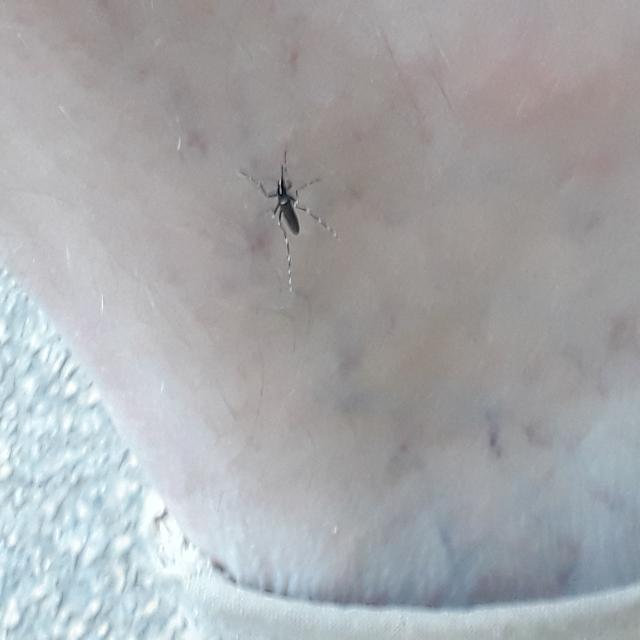albopictus: (237, 140, 342, 297)
